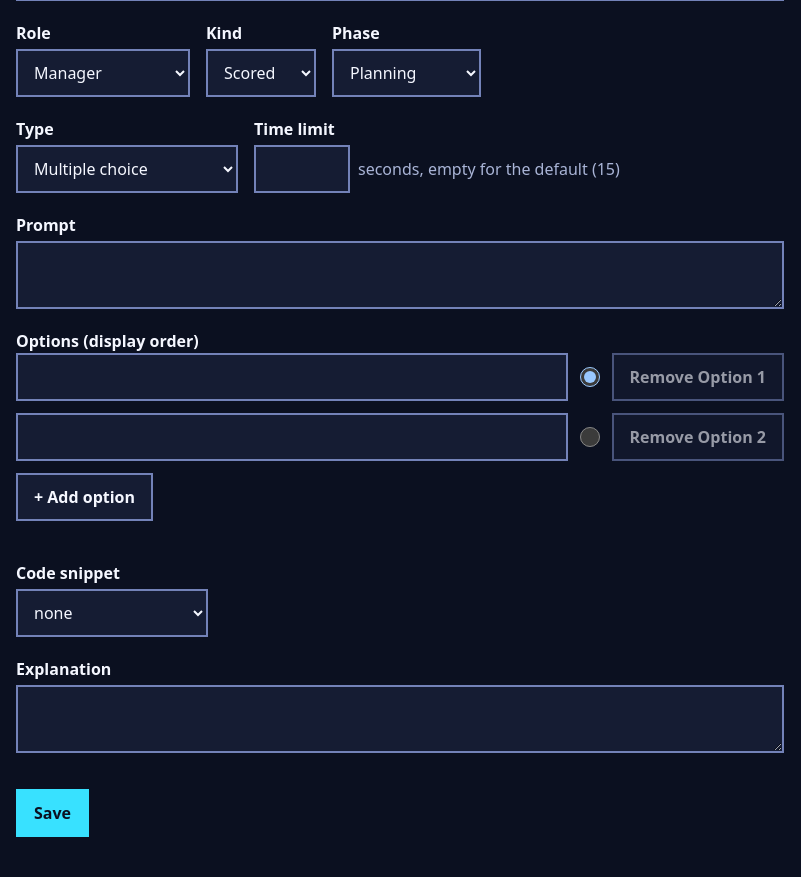
TaskEditorScreen › a save that fails without field issues says so
(page scrolled)
Click the button "Save". click: coordinates (52, 813)
box: [16,789,89,837]
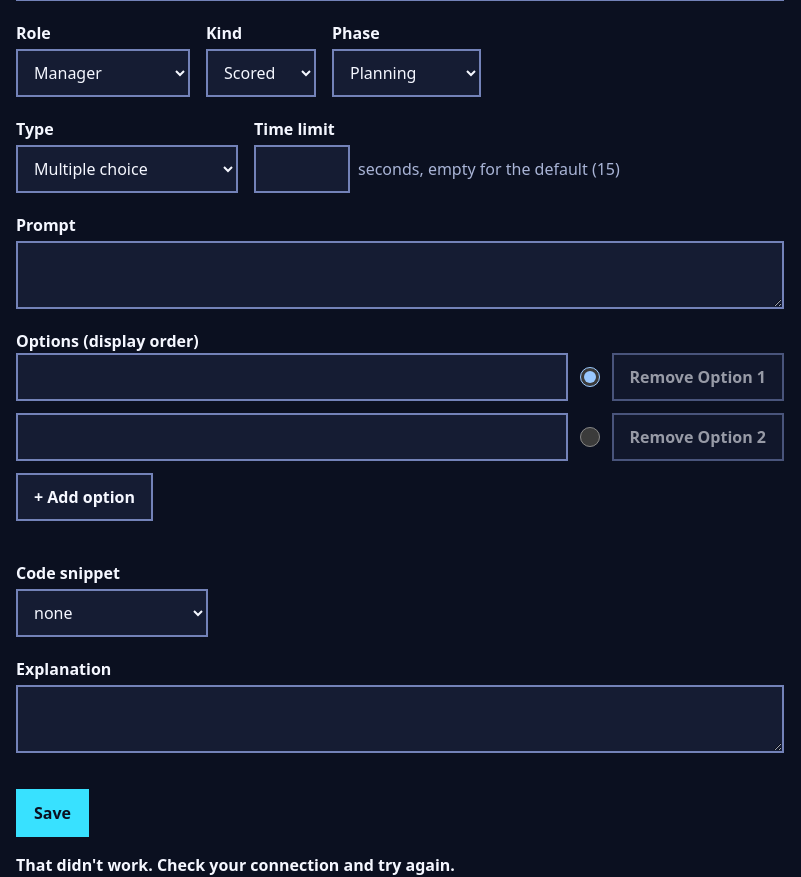
Now the text "That didn't work. Check your connection and try again." is shown, box [16,854,455,876]
